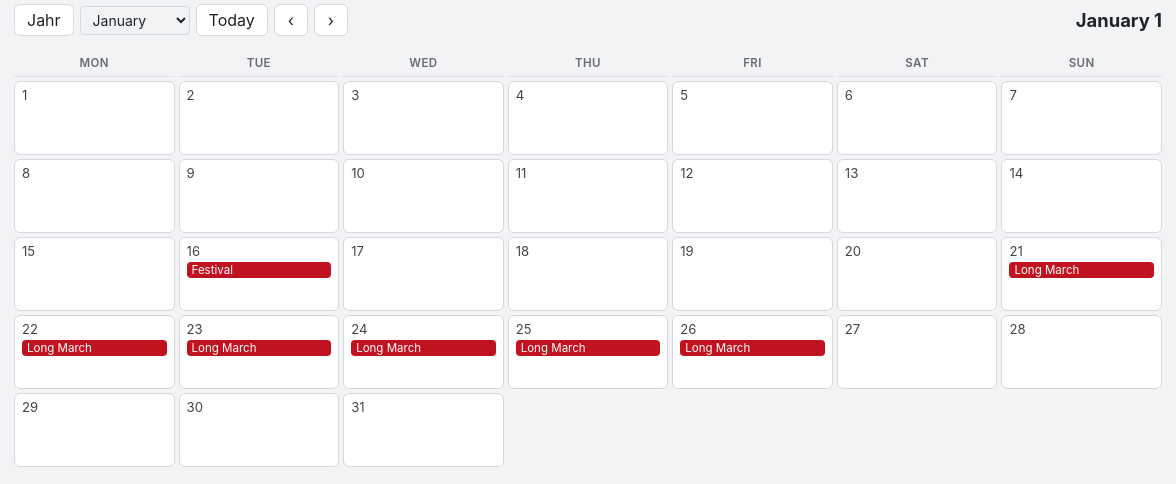
it: M5-S05 calendar month view › navigation › advancing past the last month rolls into the next year (S2 #252)
Expected: the heading "January 1" is shown, x1=1076 y1=9 x2=1162 y2=31
Click the button "›": {"x": 331, "y": 20} x1=314 y1=4 x2=348 y2=36
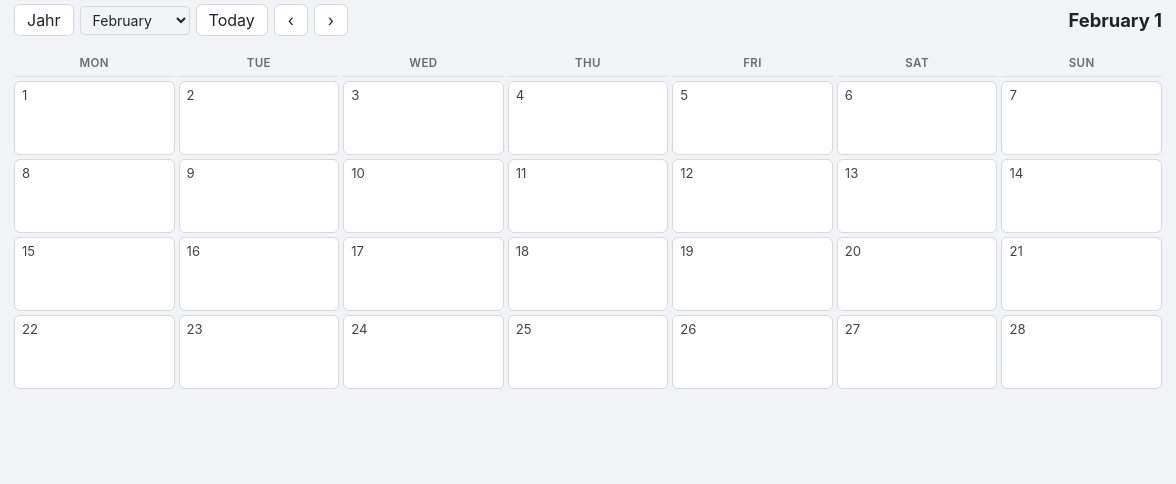
Click the button "›": {"x": 331, "y": 20} x1=314 y1=4 x2=348 y2=36
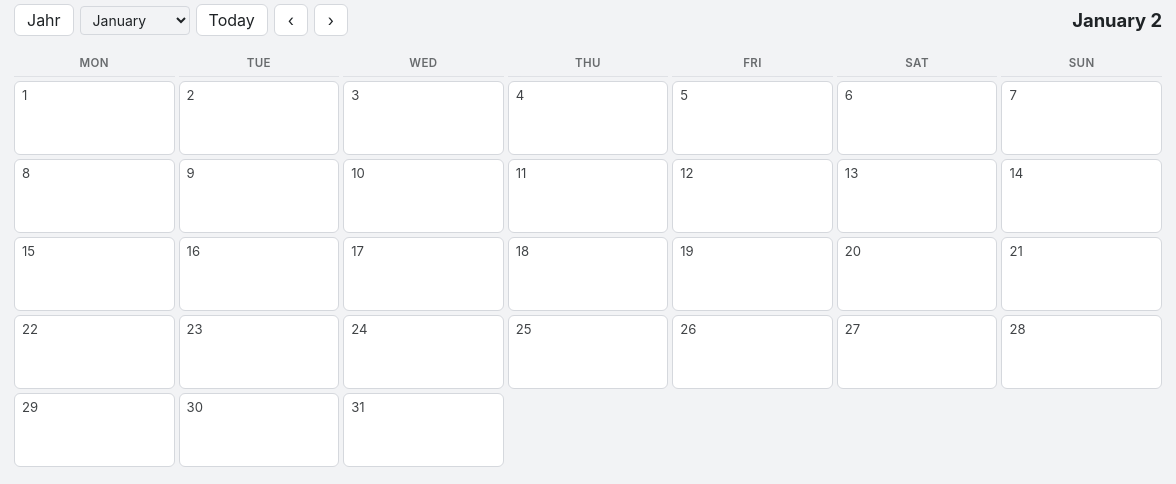
Expected: the heading reads "January 2", x1=1072 y1=9 x2=1162 y2=31
